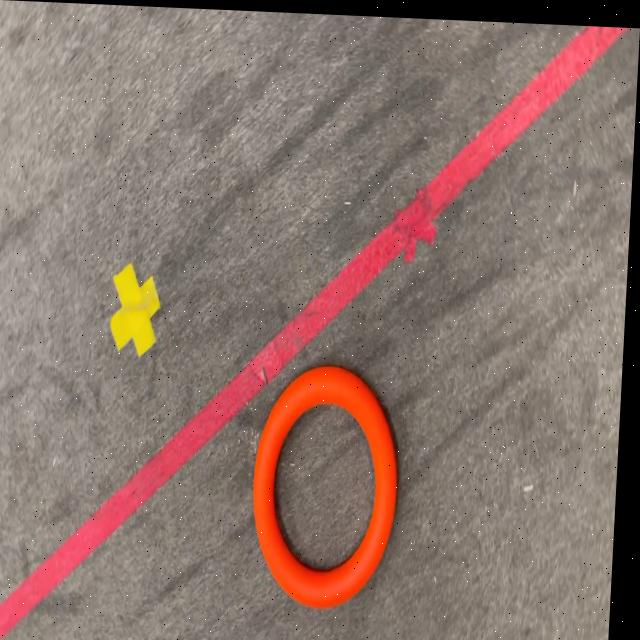note: (254, 359, 407, 605)
